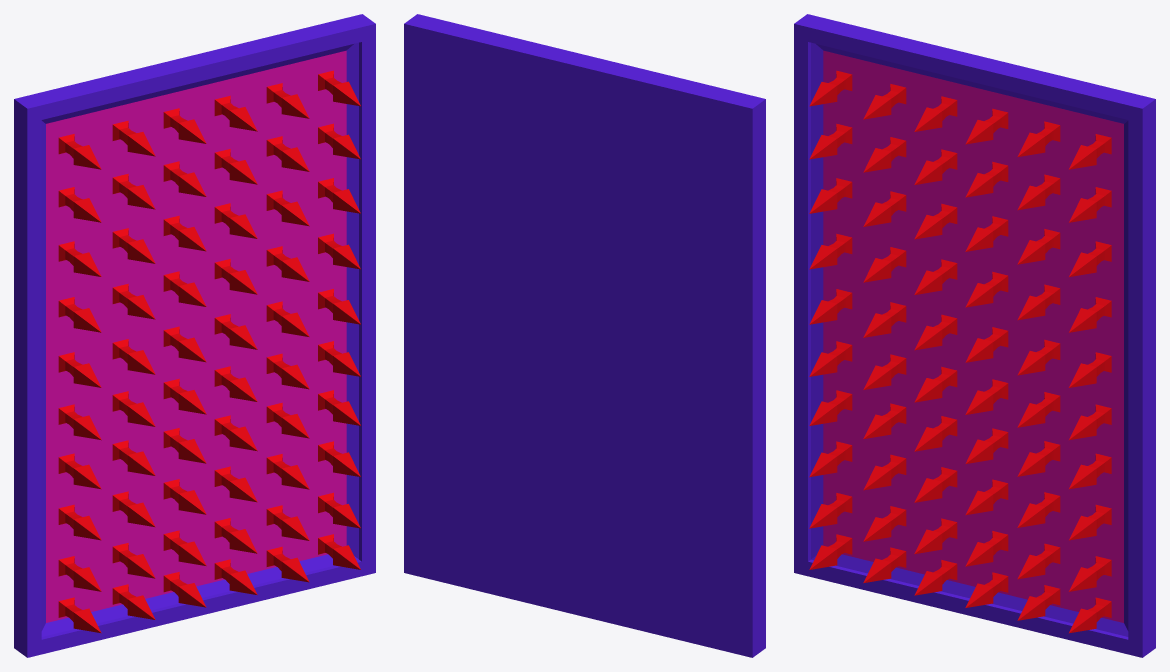
Rendered from SpikesWallUVID.fbx.
The picture shows the model from 3 angles, left to right: view 1: azimuth 30°, elevation 25°; view 2: azimuth 150°, elevation 25°; view 3: azimuth 330°, elevation 25°; orthographic projection.
Visible parts, largest first — view 1: Floor, Spikes; view 2: Floor; view 3: Floor, Spikes.
Part boxes in pixels (x1=…): Floor: x1=14, y1=14, x2=375, y2=657; Spikes: x1=58, y1=70, x2=360, y2=633; Floor: x1=404, y1=14, x2=765, y2=657; Floor: x1=794, y1=14, x2=1155, y2=657; Spikes: x1=809, y1=70, x2=1111, y2=633.
Size of the model in its own units: 65.55 by 98.72 by 13.99.
